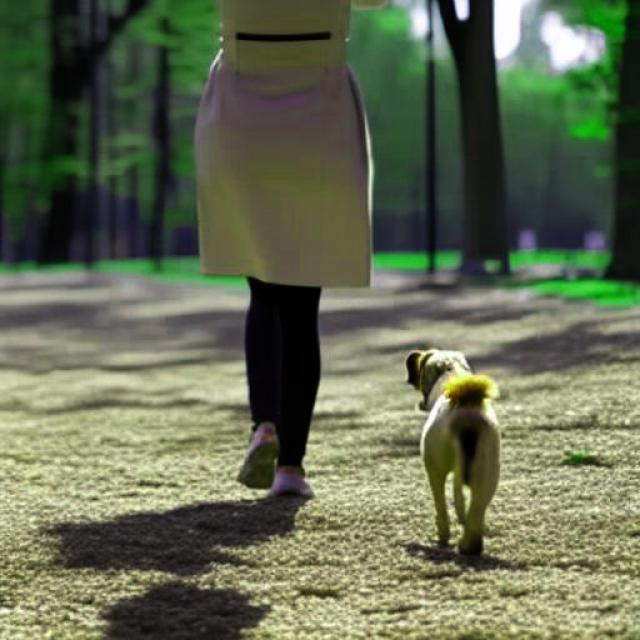Unleashed_Dog: (235, 277, 503, 557)
